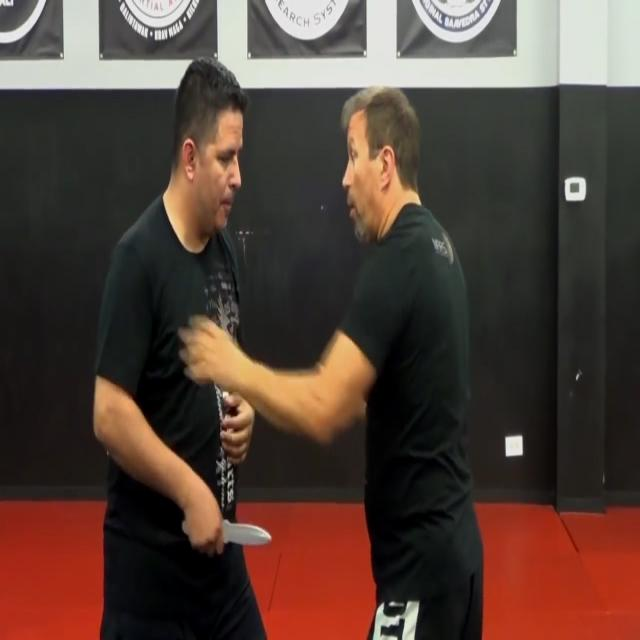knife: (220, 507, 274, 557)
